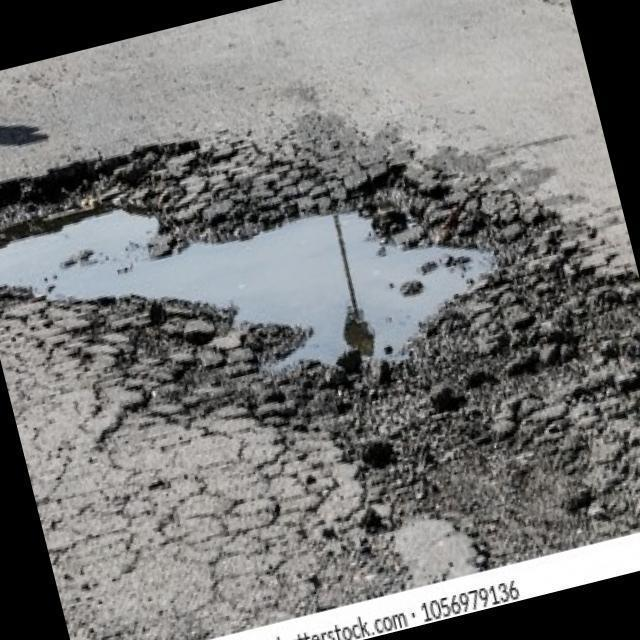Pothole: (2, 140, 640, 617)
